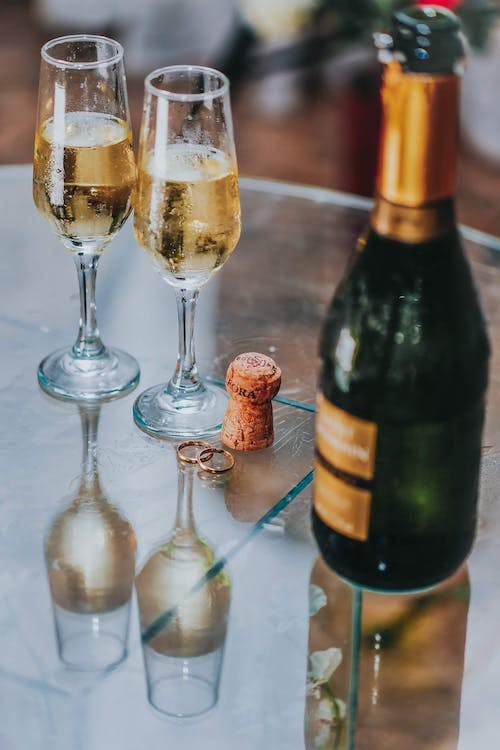alcohol: (307, 3, 492, 597), (131, 63, 243, 440), (30, 32, 142, 403)
